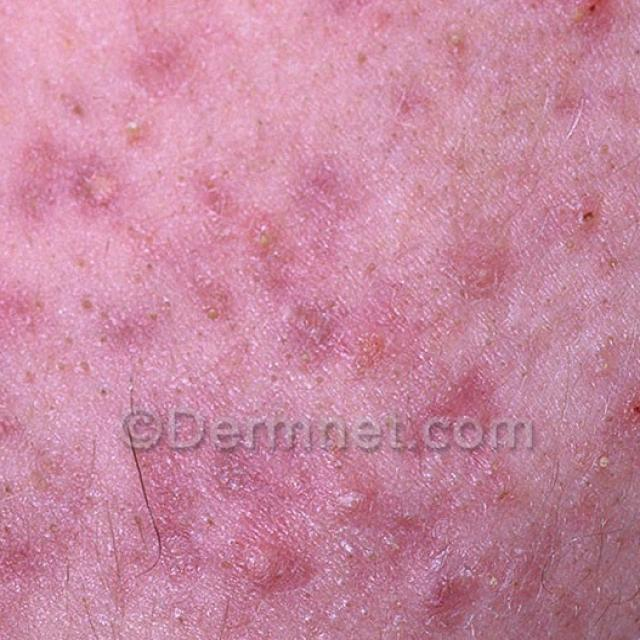Acne: (88, 373, 640, 639), (62, 80, 558, 322), (494, 0, 640, 96), (0, 287, 35, 358)
